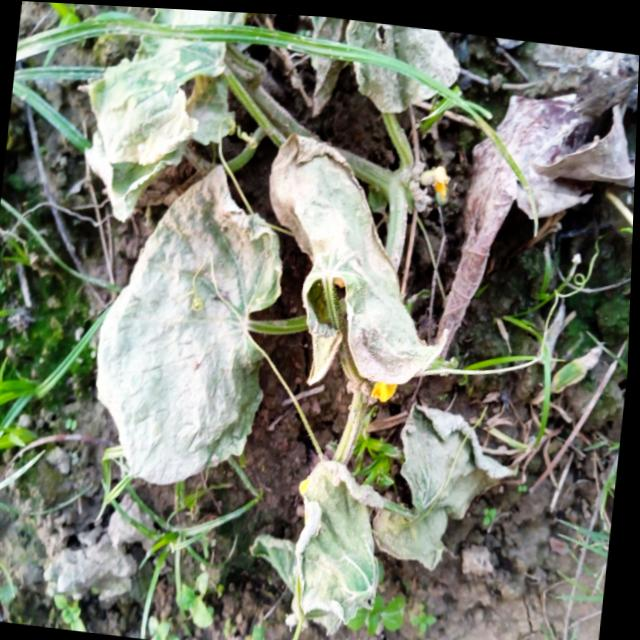Bacterial-Wilt: (97, 159, 288, 482), (266, 128, 455, 386), (74, 6, 246, 224), (372, 398, 526, 569), (249, 452, 390, 636)
